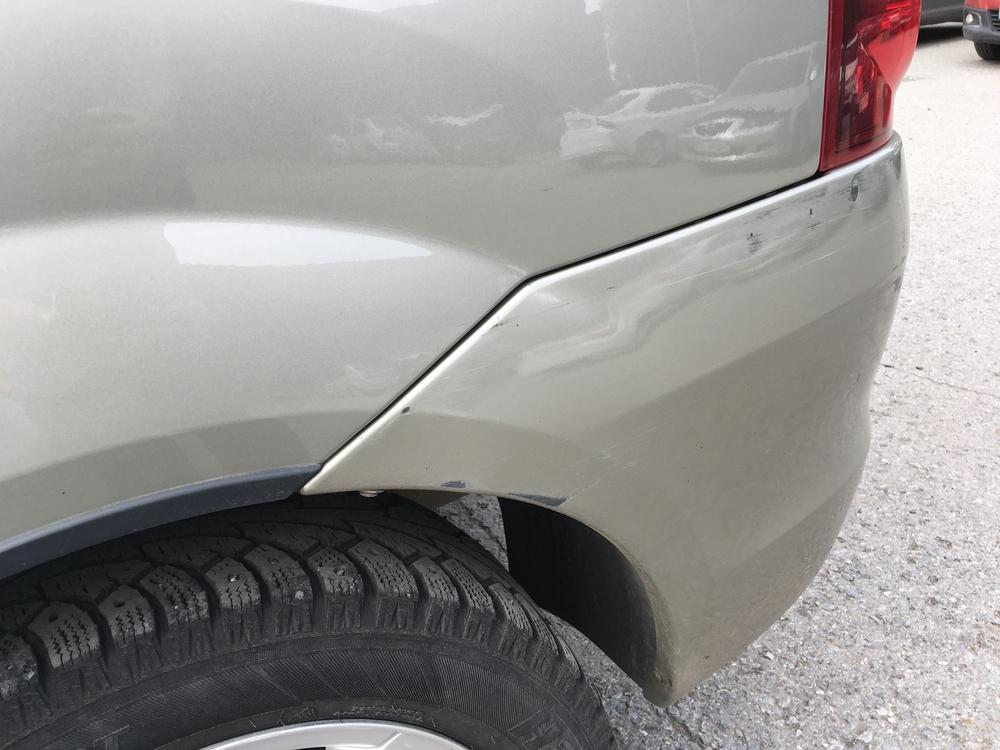scratch: (729, 157, 893, 265), (436, 477, 577, 513)
